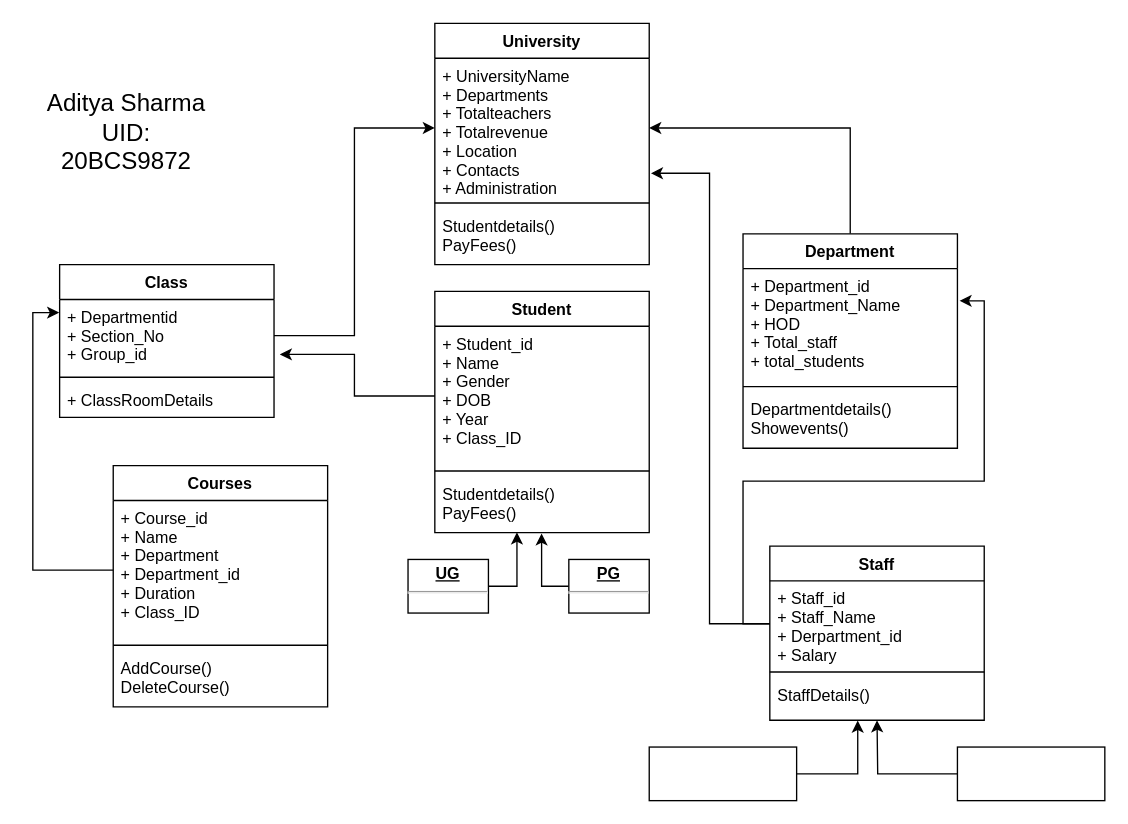
The diagram is 1128 pixels wide and 824 high, and some of its shapes have lost their labels. Here are the shapes that lost their labels. From the top down, the centre of each, then its label:
point 722,773: Teaching Staff
point 1030,773: Non-teaching Staff
